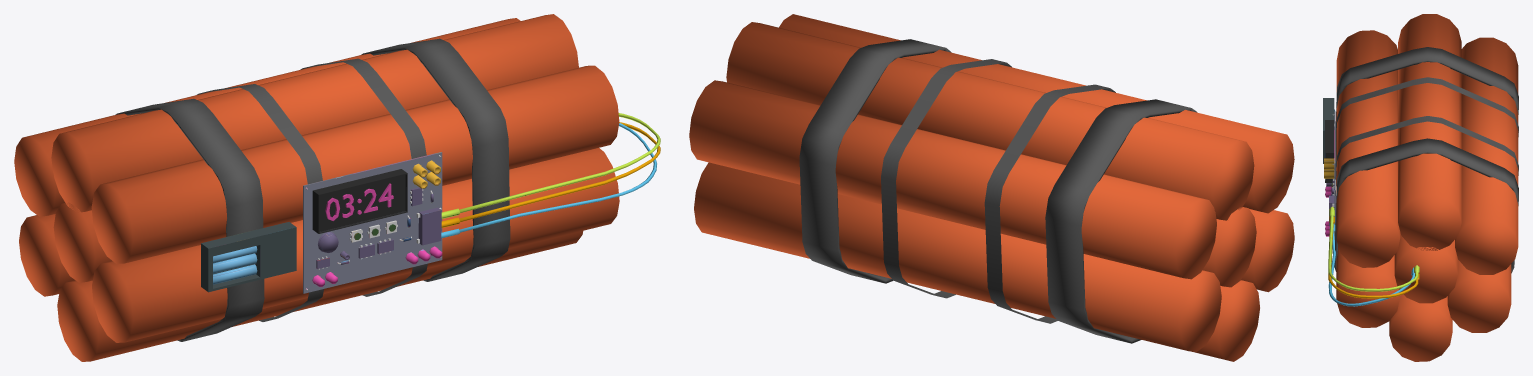
Rendered from Dynamit.fbx.
3 views of the same model, side by side, from view 1: azimuth 30°, elevation 25°; view 2: azimuth 150°, elevation 25°; view 3: azimuth 270°, elevation 25° (orthographic). The views are drawn at different scales.
Parts seen in each view (by area): view 1: Dynamit, MicroShema, Akkum, Time, Provoda.001; view 2: Dynamit, MicroShema; view 3: Dynamit, MicroShema, Provoda.001, Time, Akkum.
Part boxes in pixels (x1,y1,x2,y2): Dynamit: (14,14,619,361); MicroShema: (197,58,442,321); Akkum: (201,222,296,292); Time: (312,169,407,233); Provoda.001: (441,113,660,238); Dynamit: (689,14,1294,361); MicroShema: (881,59,1115,323); Dynamit: (1334,14,1518,361); MicroShema: (1324,77,1518,239); Provoda.001: (1328,206,1419,306); Time: (1325,120,1334,182); Akkum: (1323,98,1335,163).
Bounding box in the file's own units: 7.01 × 2.76 × 2.87.
Materials: 1 (1 with a texture image).
